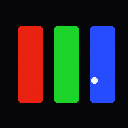0 point: (91, 77, 97, 83)
